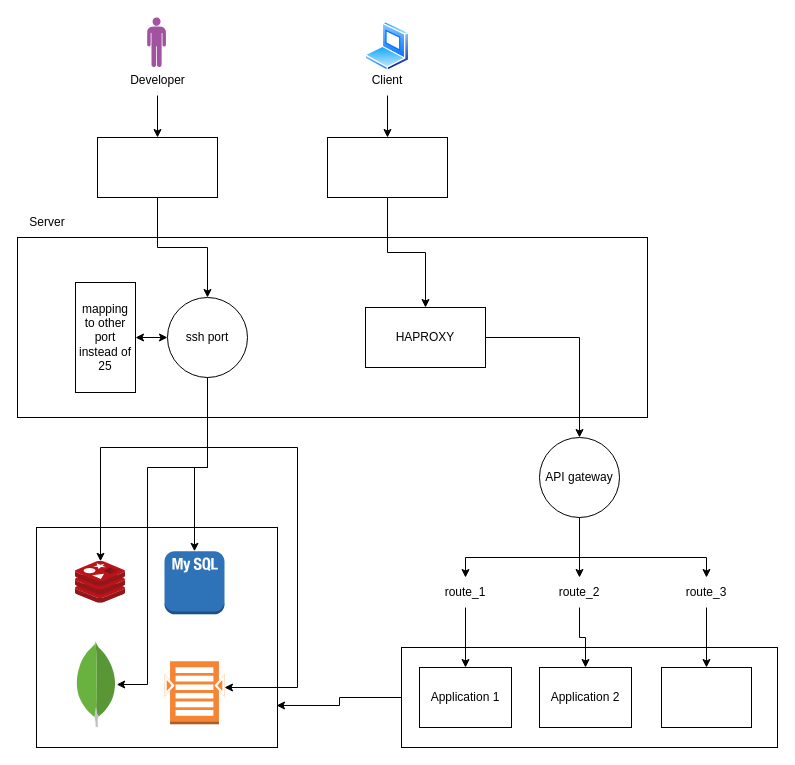
The diagram is 795 pixels wide and 765 high, and some of its shapes have lost their labels. The shapes that lost their labels are listed below. From the top down, each one's centre as x and y in pixels, then its label:
[157,167]: SSH Port forward tunnel
[387,167]: Cloudflare
[706,697]: Application 3
